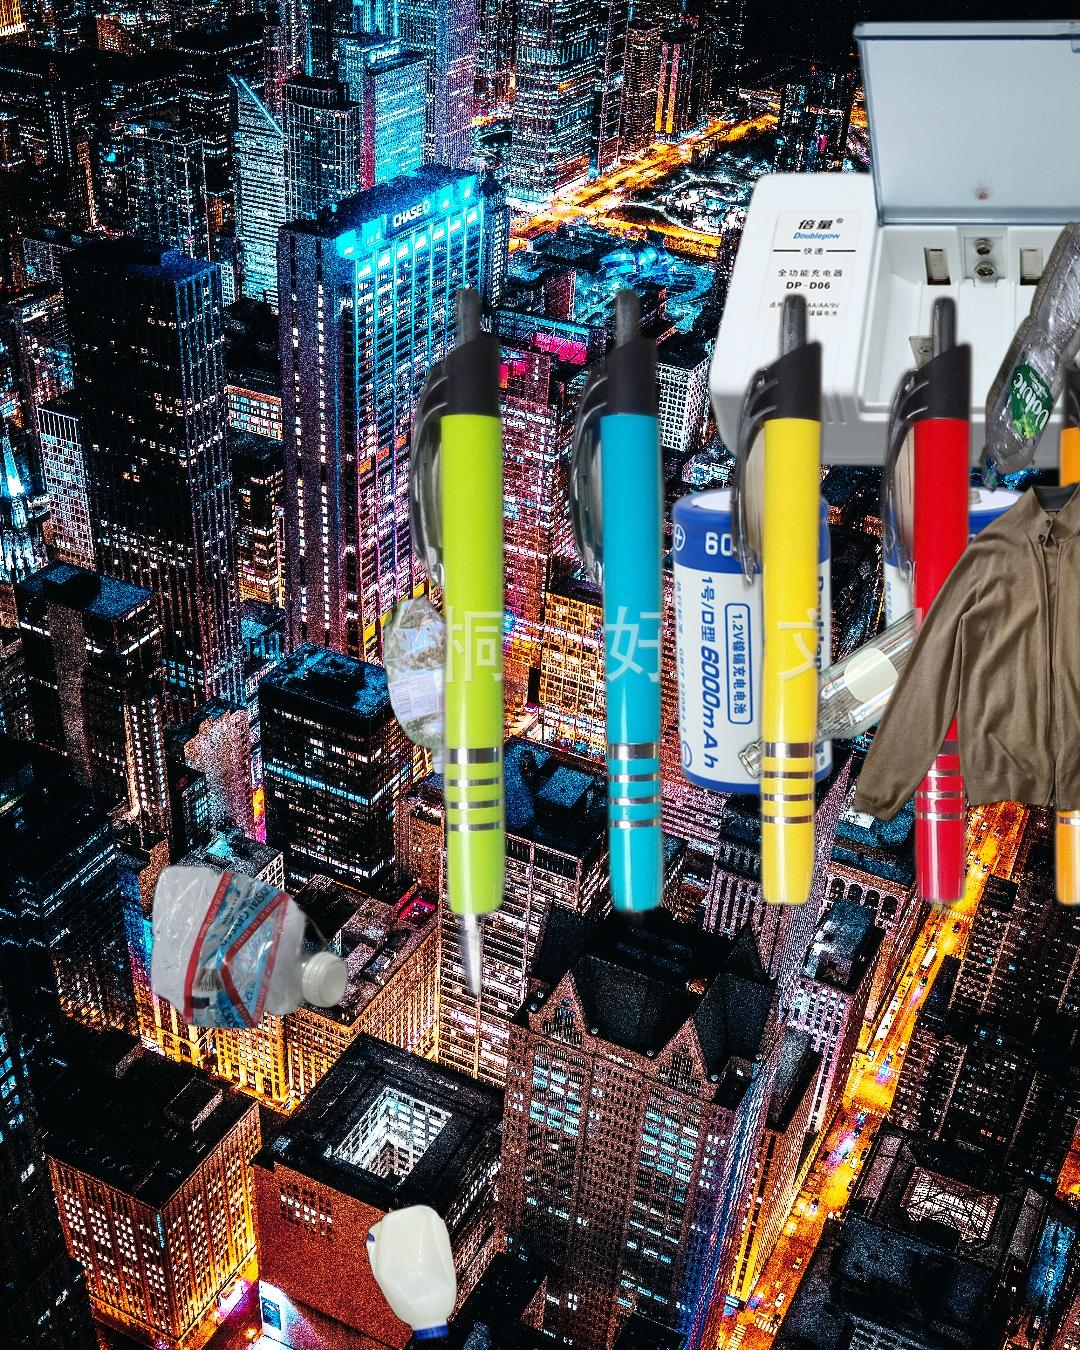battery: (648, 7, 1080, 807)
clothes: (852, 474, 1080, 829)
glass: (734, 586, 989, 785)
penholder: (399, 279, 1080, 1019)
plastic-bottles: (145, 861, 353, 1033), (975, 217, 1080, 497), (379, 590, 477, 781), (361, 1199, 462, 1347)
